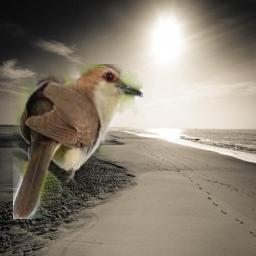Cuckoo: (13, 64, 143, 219)
